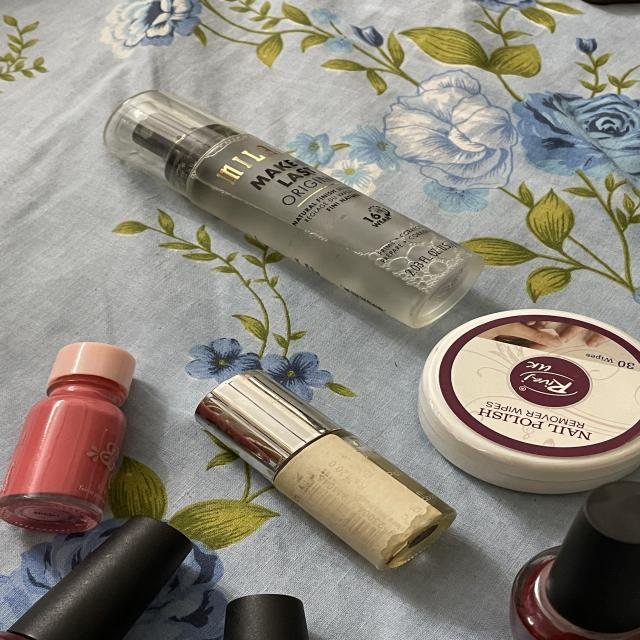Tint: (0, 328, 153, 532)
nail polish: (166, 362, 464, 580), (0, 513, 229, 640), (491, 475, 640, 640)
nail polish remover: (413, 291, 640, 505)
setting spray: (92, 68, 490, 338)
